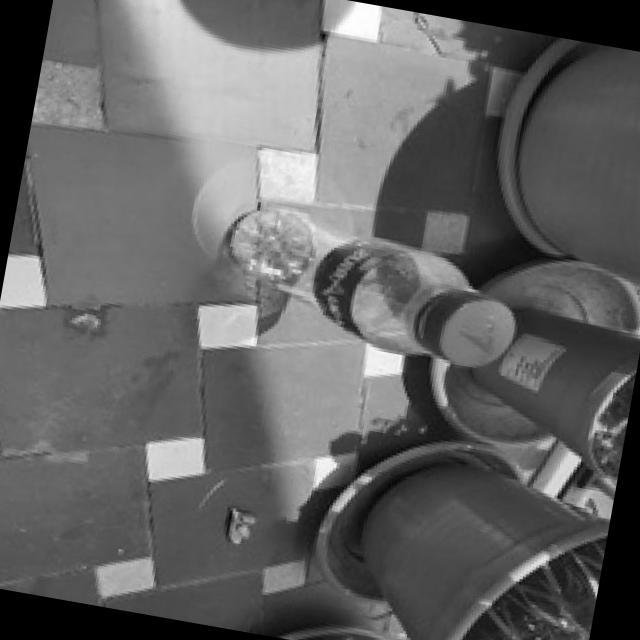good: (197, 198, 526, 378)
